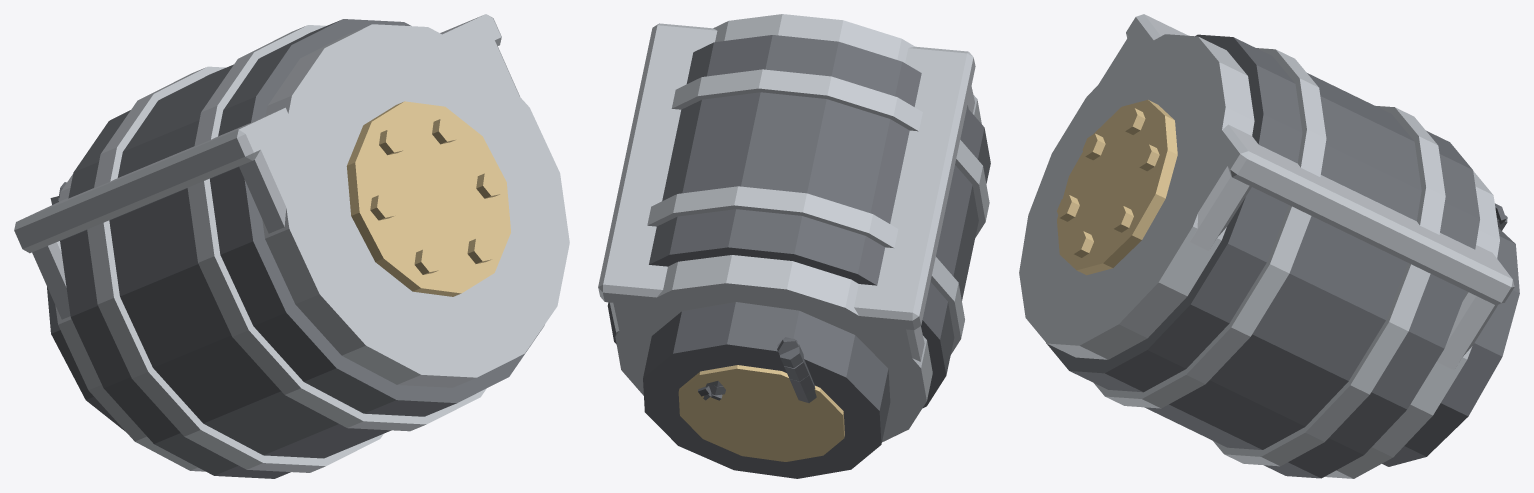
Rendered from bastion.elbow.glb.
3 renders of one model, left to right at view 1: azimuth 30°, elevation 25°; view 2: azimuth 150°, elevation 25°; view 3: azimuth 270°, elevation 25°, orthographic. The views are drawn at different scales.
Bounding box in the file's own units: 1.41 × 1.49 × 1.58.
